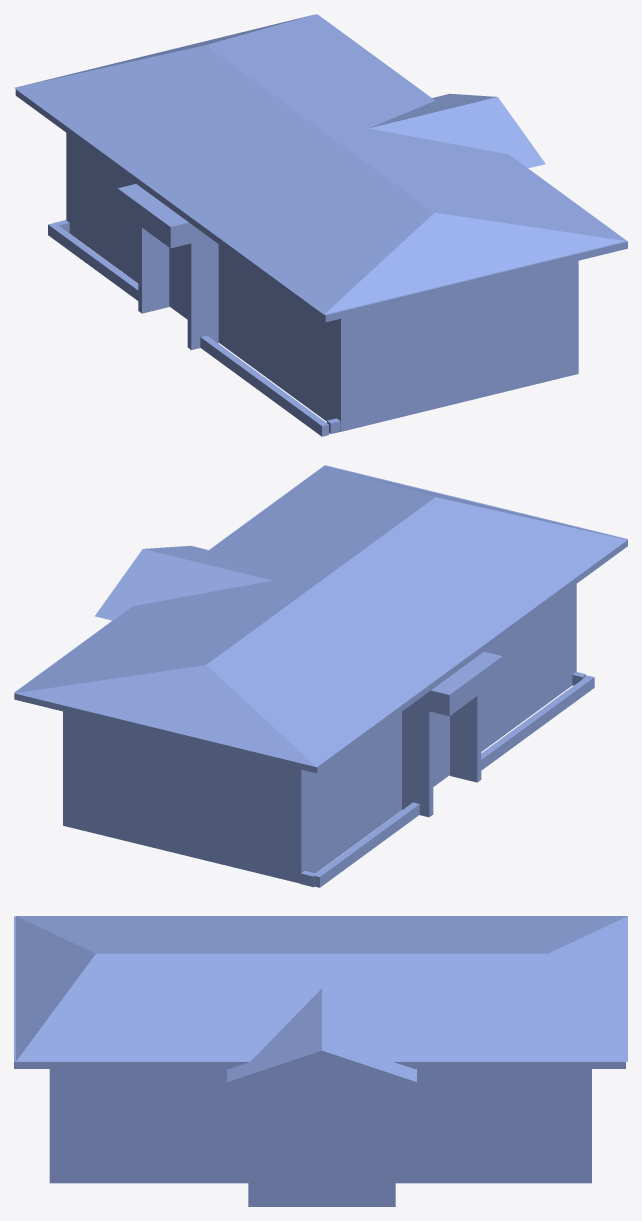
The model's file is CCIT1Nav.glb.
3 views of the same model, one above another, from view 1: azimuth 30°, elevation 25°; view 2: azimuth 150°, elevation 25°; view 3: azimuth 270°, elevation 25° (orthographic).
Parts seen in each view (by area): view 1: Cube; view 2: Cube; view 3: Cube.
Boxes of the visible parts, x1=… form: Cube: x1=14, y1=14, x2=627, y2=436; Cube: x1=14, y1=465, x2=627, y2=887; Cube: x1=14, y1=916, x2=627, y2=1206.
Size of the model in its own units: 10.1 by 4.91 by 15.85.
